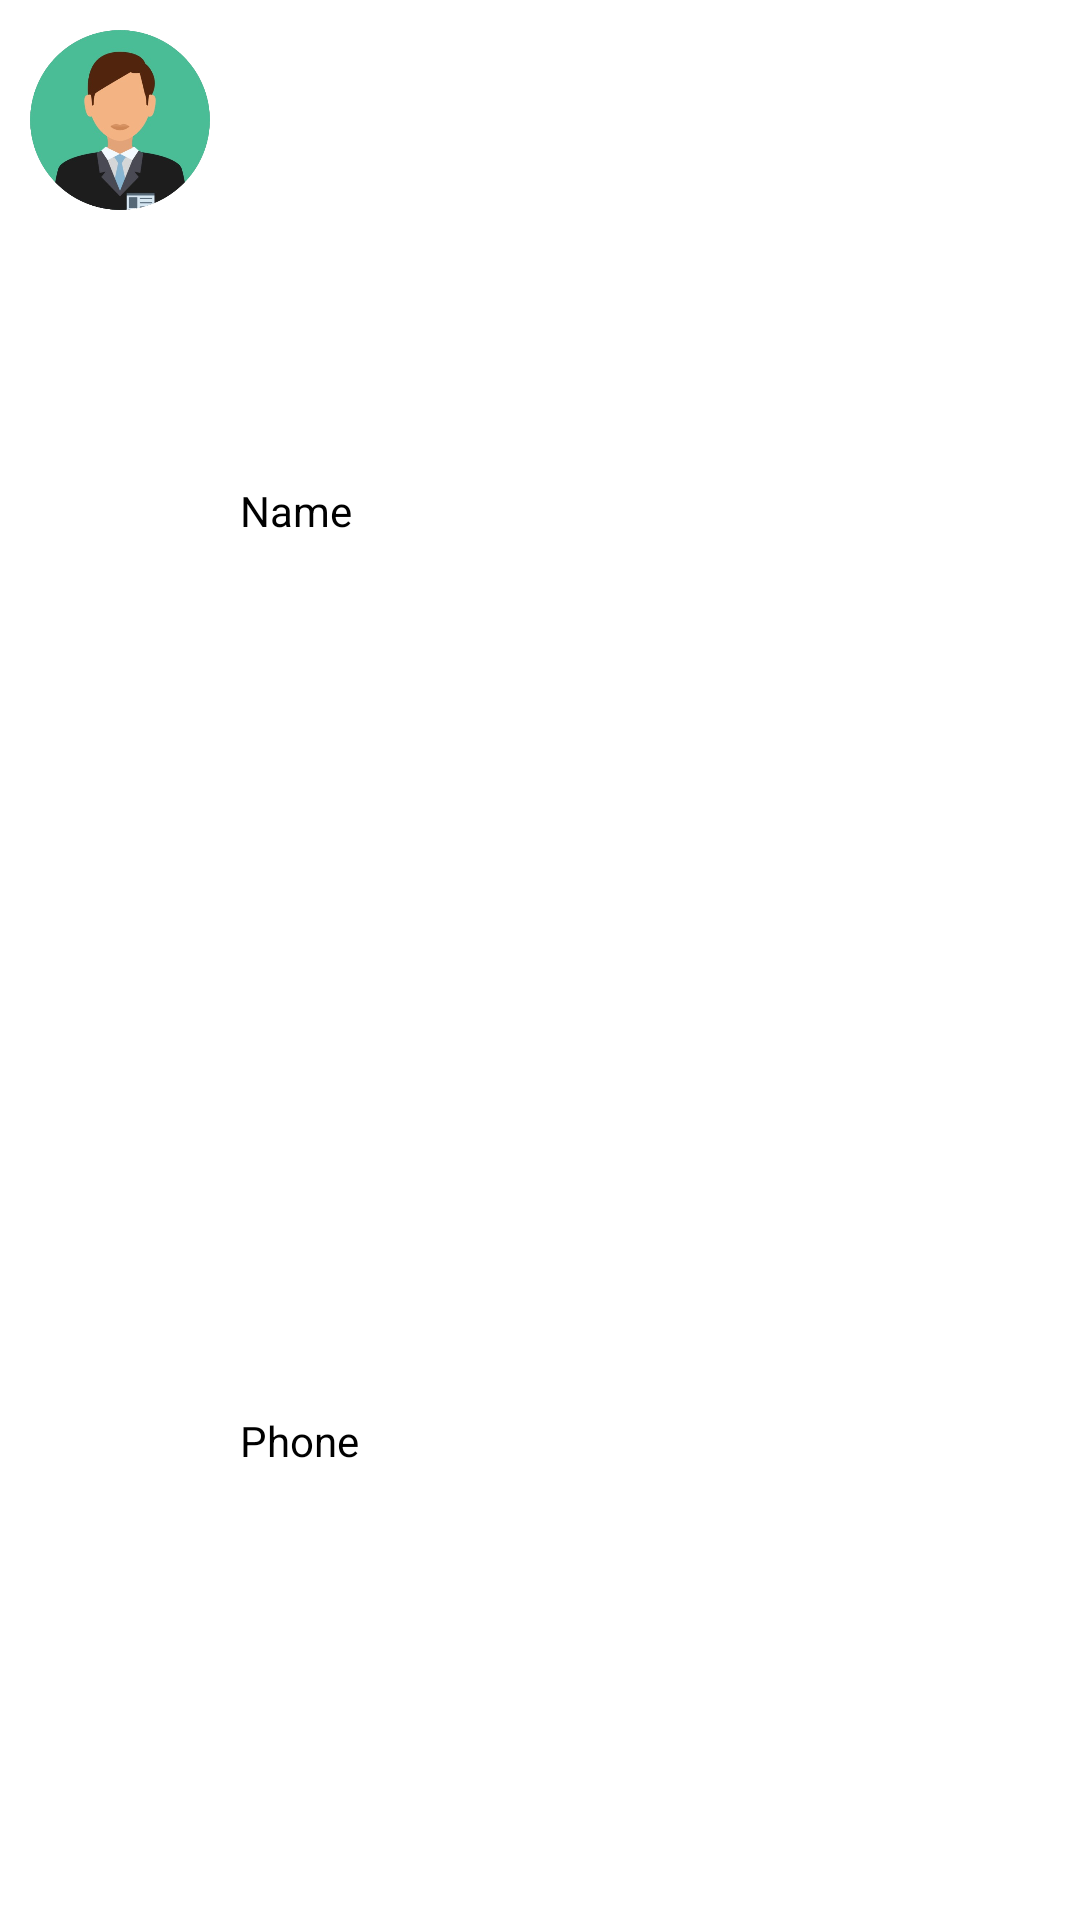

Icons on this 1080x1920 Android screen, each with the point to tap as point (x, y):
user: point (120, 120)
